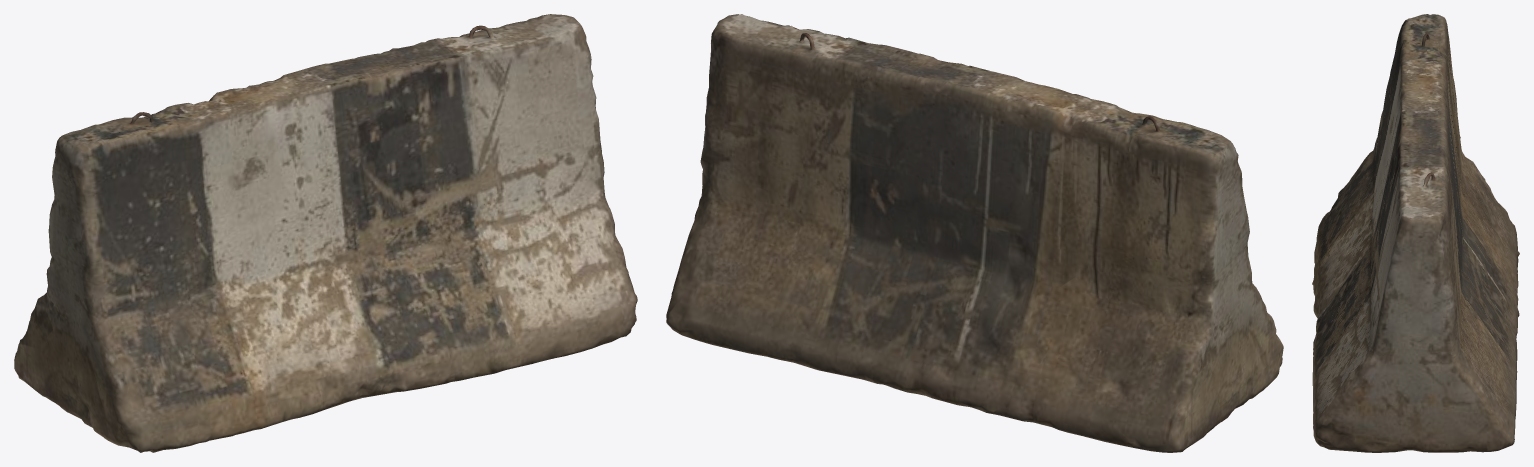
Rendered from barrier.glb.
3 views of the same model, side by side, from view 1: azimuth 30°, elevation 25°; view 2: azimuth 150°, elevation 25°; view 3: azimuth 270°, elevation 25° (orthographic). The views are drawn at different scales.
Visible parts, largest first — view 1: concrete_road_barrier; view 2: concrete_road_barrier; view 3: concrete_road_barrier.
Boxes of the visible parts, left/top/right/bottom form: concrete_road_barrier: left=14, top=14, right=637, bottom=452; concrete_road_barrier: left=666, top=14, right=1283, bottom=452; concrete_road_barrier: left=1312, top=14, right=1519, bottom=452.
Bounding box in the file's own units: 1.54 × 0.8294 × 0.6387.
Materials: 1 (1 with a texture image).
